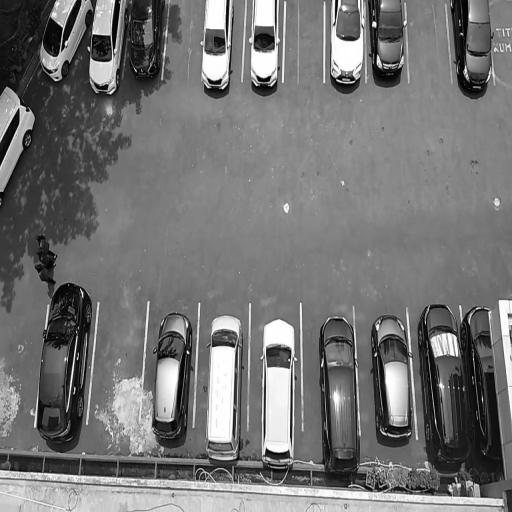Car: (414, 301, 470, 471), (34, 278, 89, 447), (318, 311, 363, 485), (463, 302, 503, 478), (255, 315, 299, 471), (369, 309, 416, 449), (204, 309, 243, 469), (152, 307, 193, 442), (0, 70, 38, 212), (38, 0, 89, 83), (86, 0, 127, 102), (328, 0, 367, 99), (453, 0, 493, 94), (248, 0, 283, 102), (367, 0, 408, 85), (199, 0, 232, 104), (127, 0, 162, 91)
Space Available: (100, 290, 138, 448), (409, 0, 445, 92), (289, 0, 321, 89), (171, 0, 199, 84), (494, 0, 512, 86)
